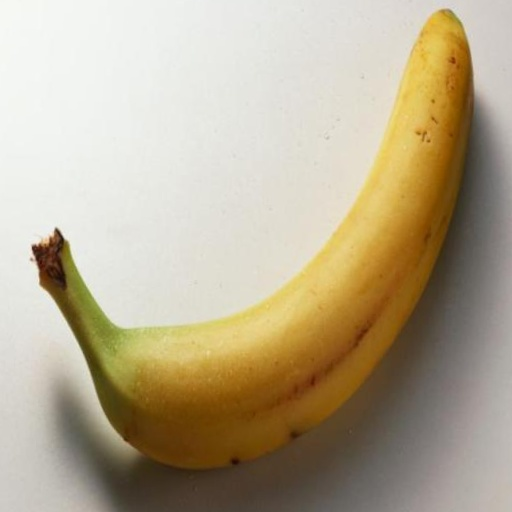fruit: (33, 10, 473, 468)
